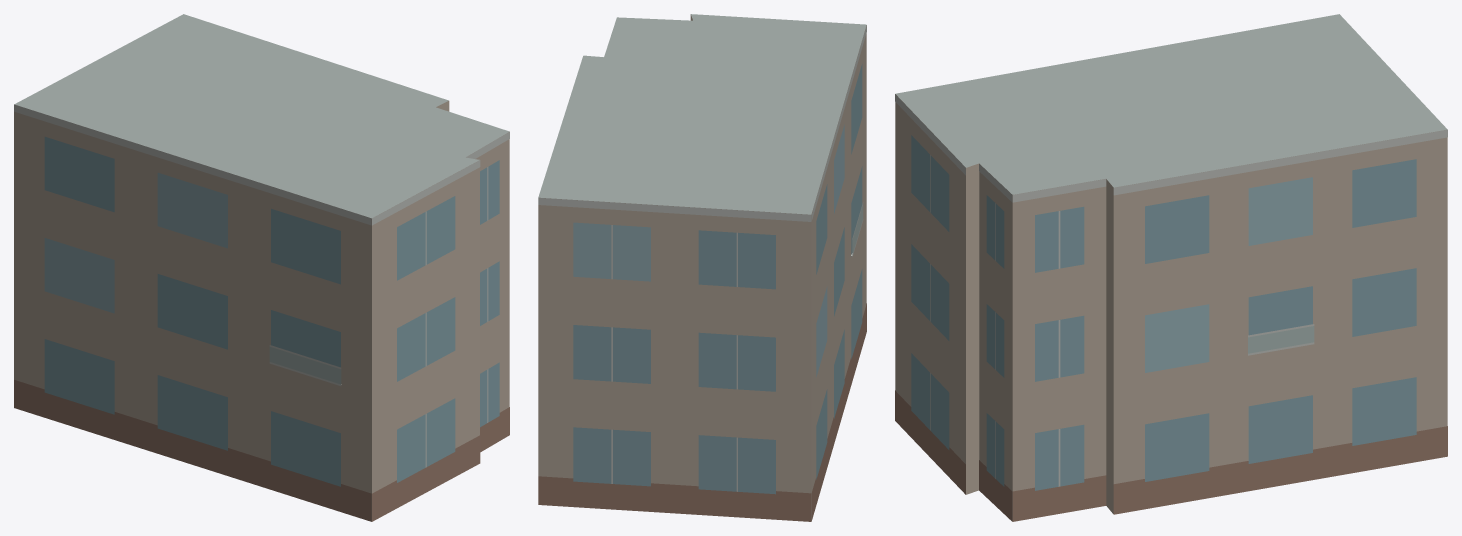
The model's file is survey-upis-32763363.glb.
3 renders of one model, left to right at view 1: azimuth 30°, elevation 25°; view 2: azimuth 150°, elevation 25°; view 3: azimuth 270°, elevation 25°, orthographic. The views are drawn at different scales.
Parts seen in each view (by area): view 1: survey-upis-32763363.tmp; view 2: survey-upis-32763363.tmp; view 3: survey-upis-32763363.tmp.
Boxes of the visible parts, x1,y1,x2,y2 form: survey-upis-32763363.tmp: [14, 14, 509, 521]; survey-upis-32763363.tmp: [538, 14, 866, 521]; survey-upis-32763363.tmp: [895, 14, 1447, 521].
Size of the model in its own units: 12.11 by 10.2 by 15.63.
